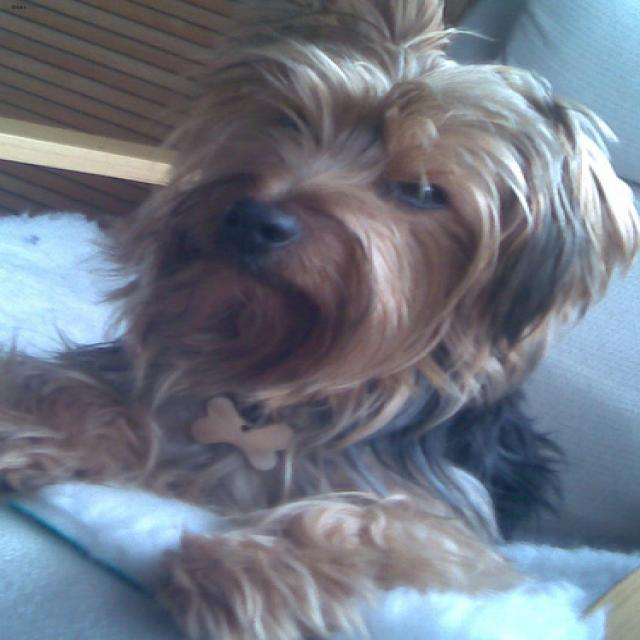dog-yorkshire_terrier: (2, 1, 637, 637)
